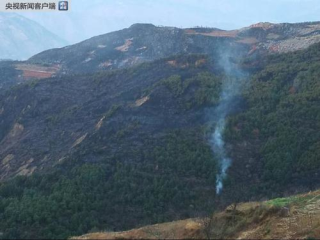smoke: (206, 51, 244, 202)
